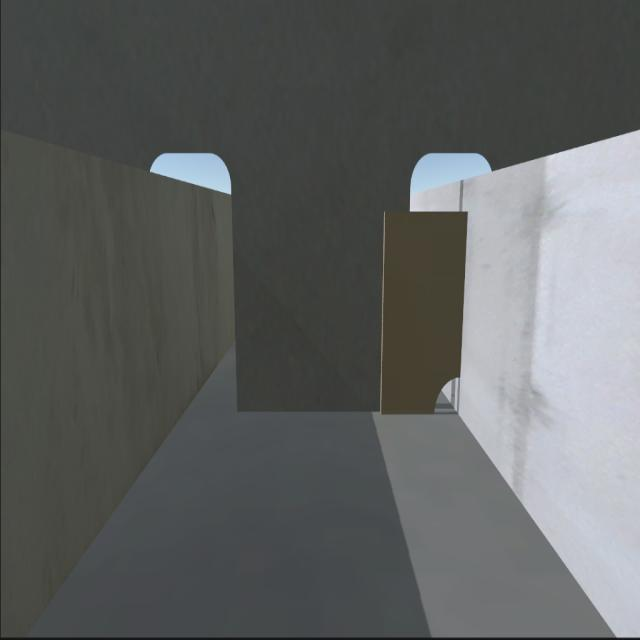fillet_hole: (428, 370, 463, 414)
fillet_yong_jeop_jang: (236, 404, 434, 419)
longi_yong_jeop_jang: (453, 210, 472, 372)
plate_CP01: (381, 207, 461, 412)
